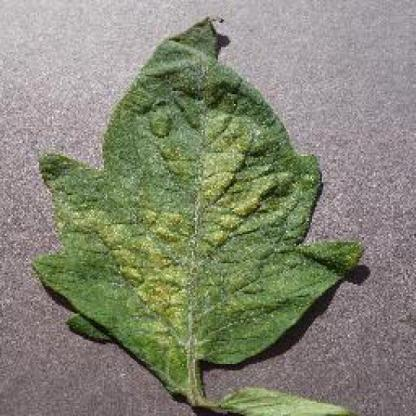Tomato_Spider_Mites: (32, 17, 365, 415)
